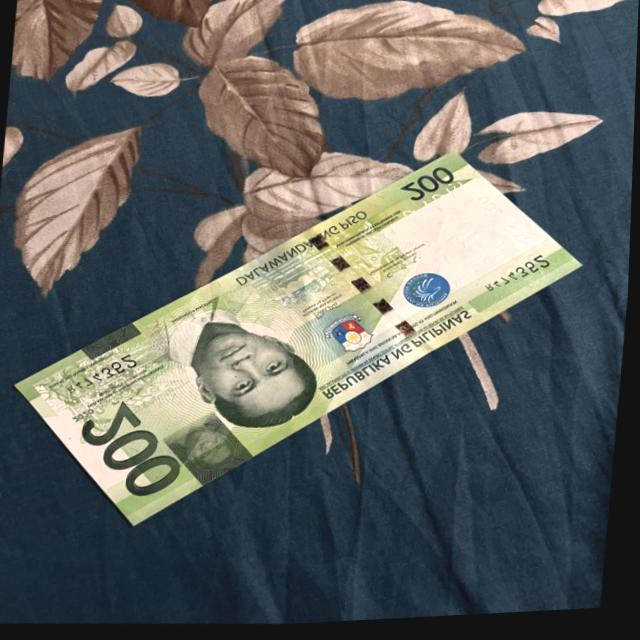concealed_value: (164, 413, 256, 488)
security_thread: (301, 230, 437, 361)
see_through_mark: (394, 179, 473, 230)
serial_number: (66, 352, 143, 399)
value: (73, 398, 193, 506)
value_watermark: (475, 197, 508, 225)
